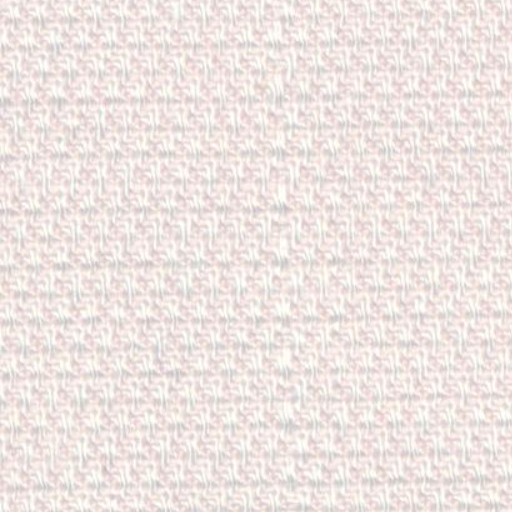TuoSha: (226, 20, 364, 498)
